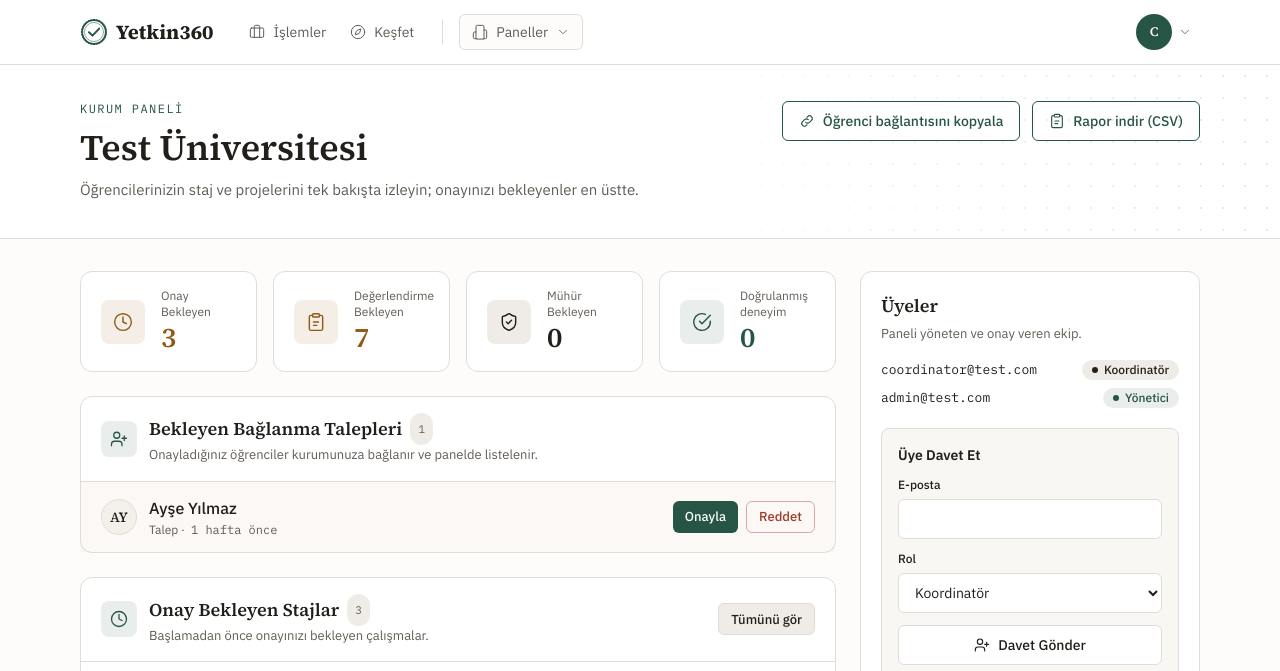
Test case: KurumPanelPage (/kurum/[id]/panel) › YET-197/IS-10: Bekleyen bağlanma talepleri › onaylama başarısız olursa hata mesajı gösterilir
This screenshot has width=1280, height=671.
What coordinates should you click on to do the following:
click the button "Onayla" in the row of "Ayşe Yılmaz"
I would click on:
 (706, 516)
Its box is top-left (673, 500), bottom-right (738, 532).
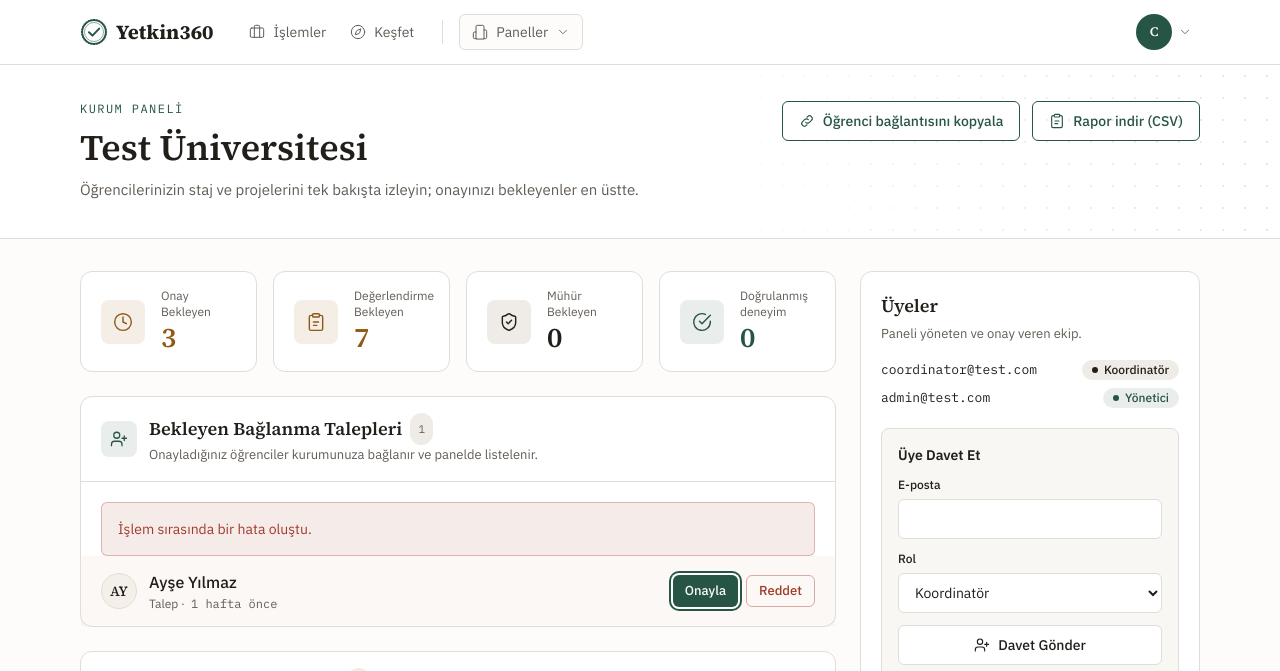
Expected: the text "İşlem sırasında bir hata oluştu." is shown, top-left (101, 502), bottom-right (815, 556)
